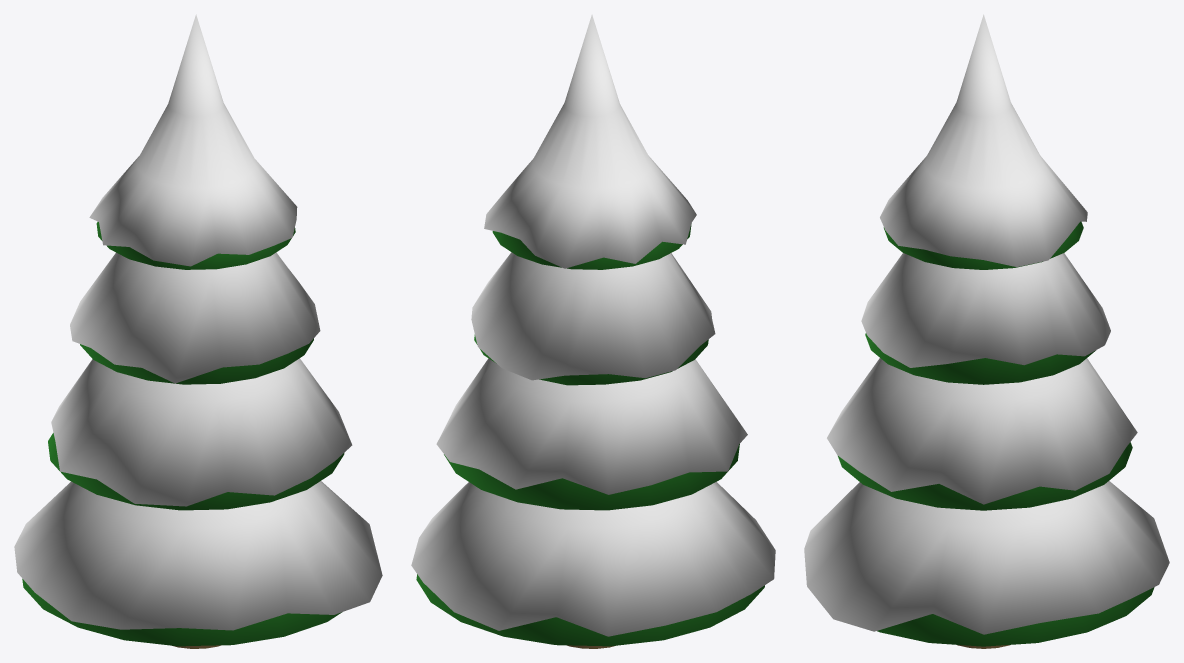
File: Medium_SnowTree.fbx
3 renders of one model, left to right at view 1: azimuth 30°, elevation 25°; view 2: azimuth 150°, elevation 25°; view 3: azimuth 270°, elevation 25°, orthographic.
Visible parts, largest first — view 1: Medium_SnowTree; view 2: Medium_SnowTree; view 3: Medium_SnowTree.
Boxes of the visible parts, x1,y1,x2,y2 form: Medium_SnowTree: (14,14,382,648); Medium_SnowTree: (411,14,775,648); Medium_SnowTree: (804,14,1169,648).
Bounding box in the file's own units: 1.77 × 3.27 × 1.76.
